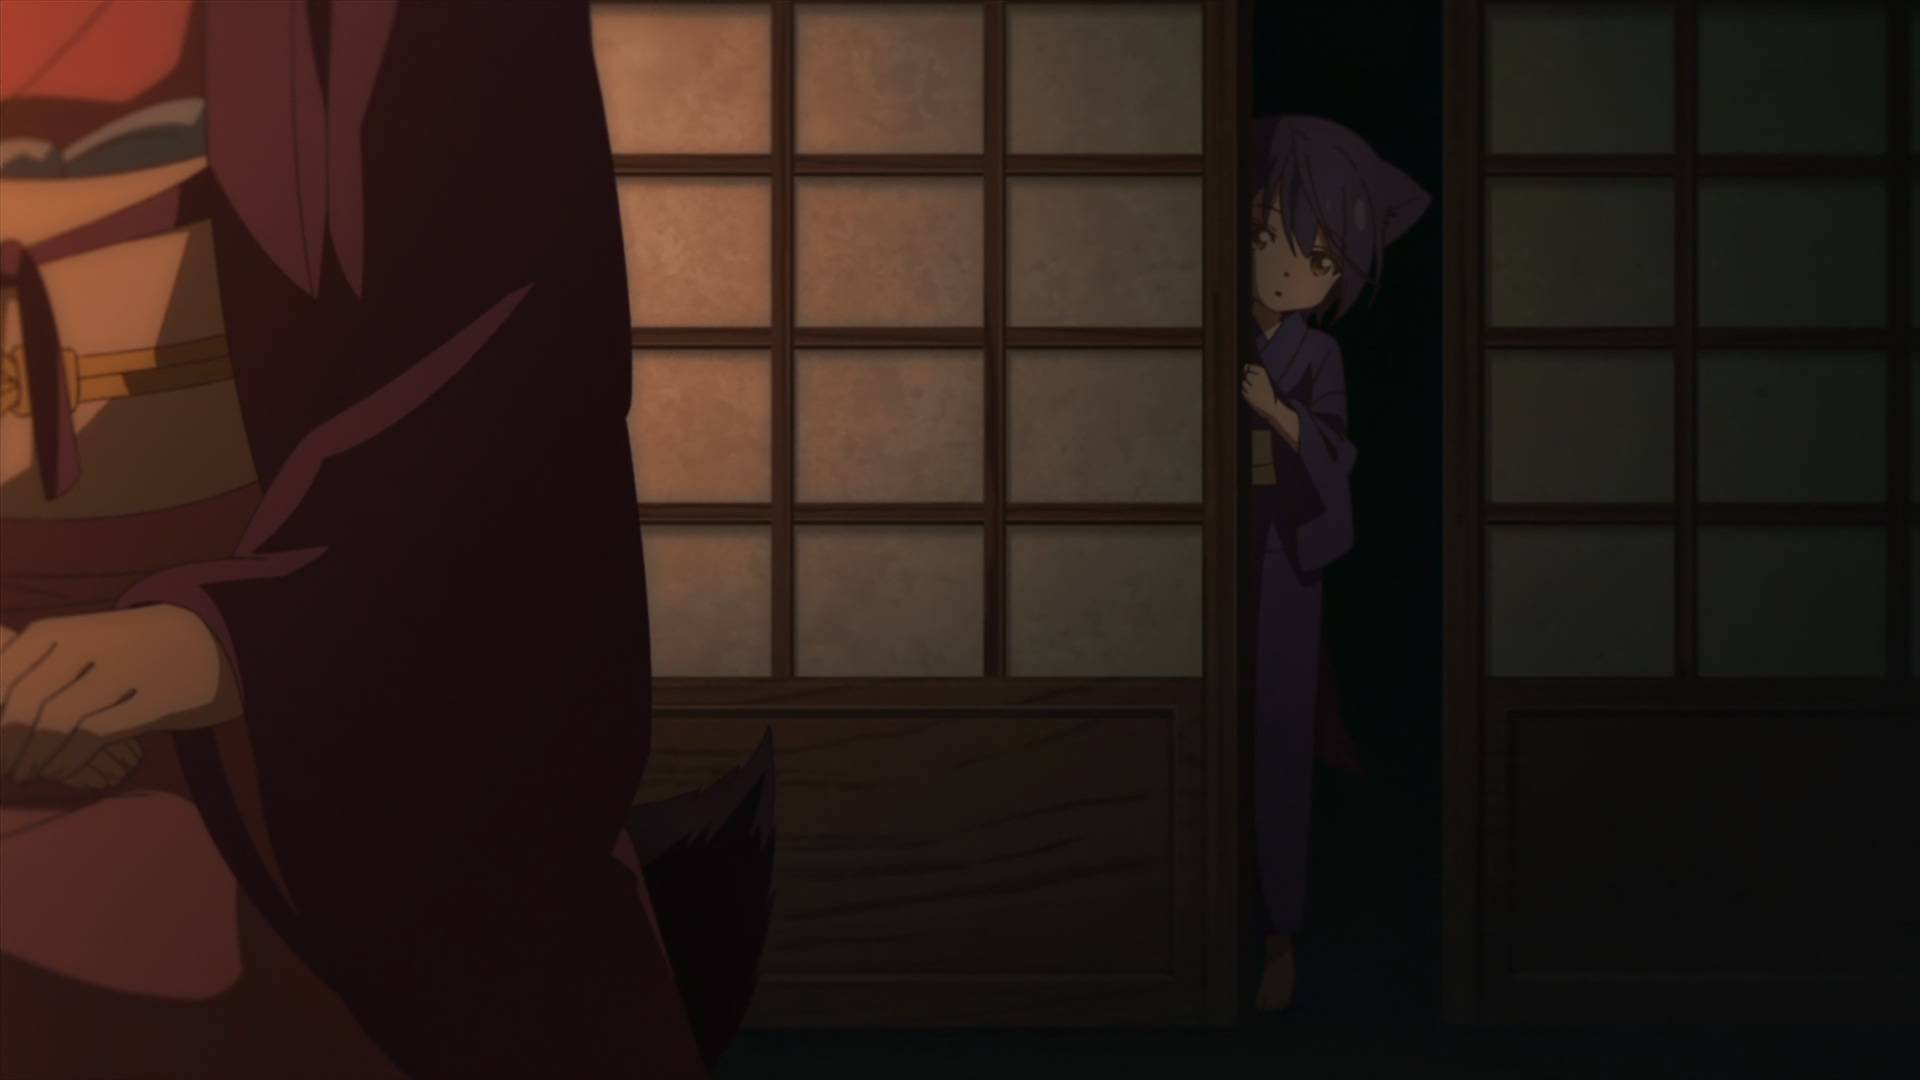其他: (1, 1, 649, 1080)
皋: (1241, 119, 1432, 1005)
